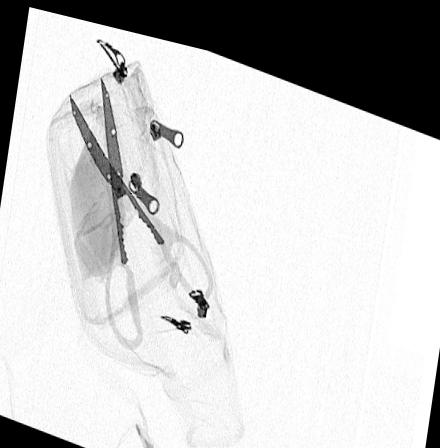Scissors: (64, 62, 215, 348)
